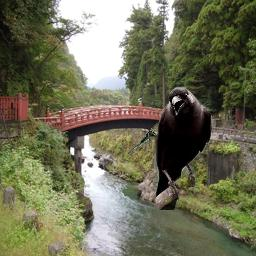Crow: (154, 87, 212, 210)
Cuckoo: (127, 118, 172, 156)
